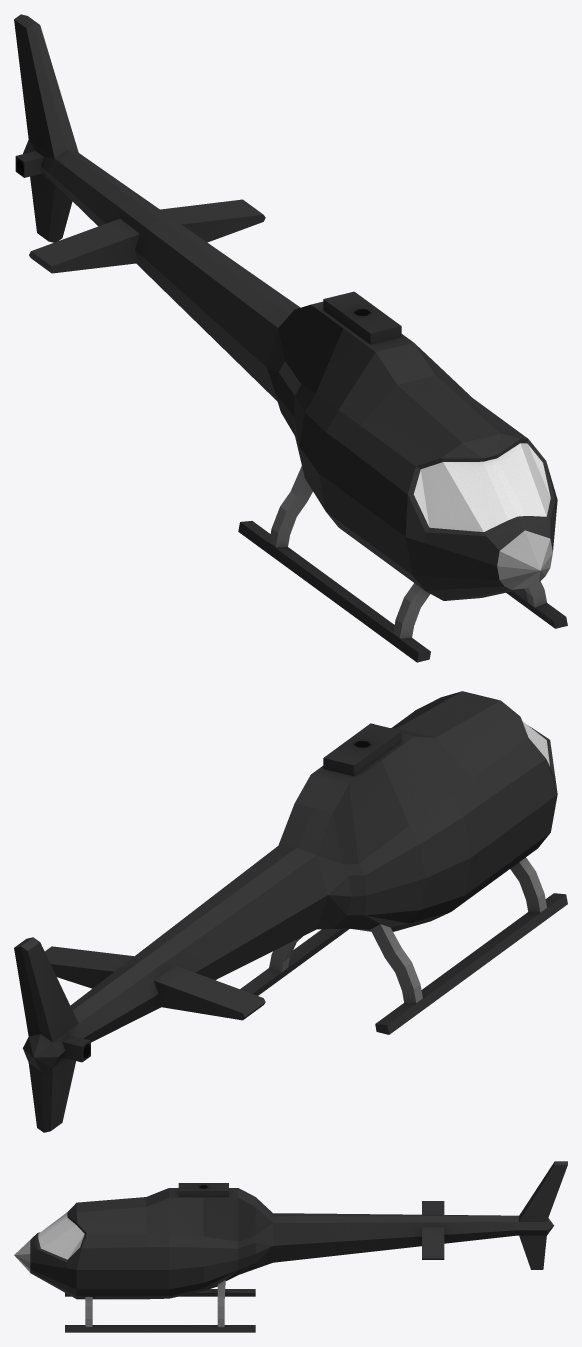
The model's file is Helicopter_1_Main.fbx.
The picture shows the model from 3 angles, top to bottom: view 1: azimuth 30°, elevation 25°; view 2: azimuth 150°, elevation 25°; view 3: azimuth 270°, elevation 25°; orthographic projection. The views are drawn at different scales.
Parts seen in each view (by area): view 1: polySurface3; view 2: polySurface3; view 3: polySurface3.
Part boxes in pixels (left/top/right/bottom): polySurface3: left=14, top=14, right=567, bottom=662; polySurface3: left=14, top=691, right=567, bottom=1132; polySurface3: left=14, top=1161, right=567, bottom=1332.
Size of the model in its own units: 3.84 by 4.83 by 15.98.
